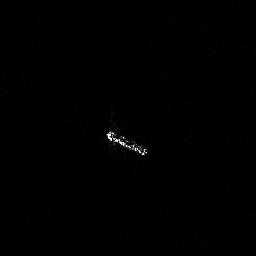ship: (102, 125, 151, 161)
